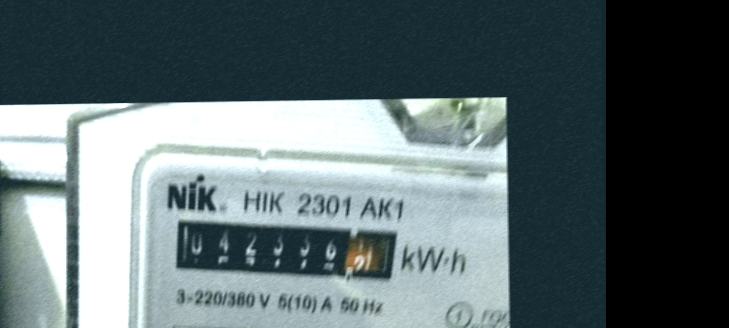0: (189, 228, 202, 257)
2: (241, 229, 259, 256)
3: (268, 228, 284, 258), (297, 229, 311, 257)
4: (215, 228, 231, 255)
6: (322, 235, 337, 262)
screen: (164, 207, 405, 292)
